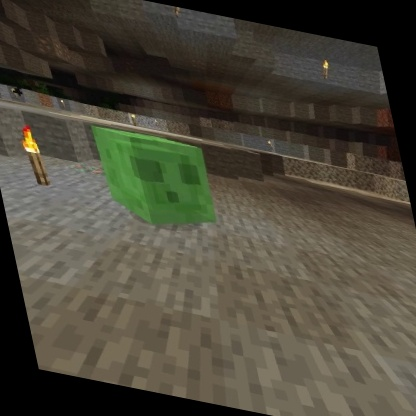slime: (85, 120, 229, 243)
